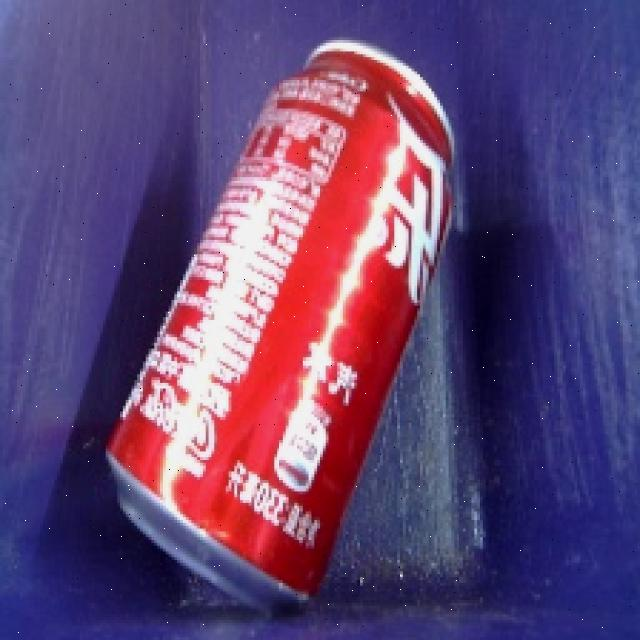metal: (83, 19, 479, 627)
